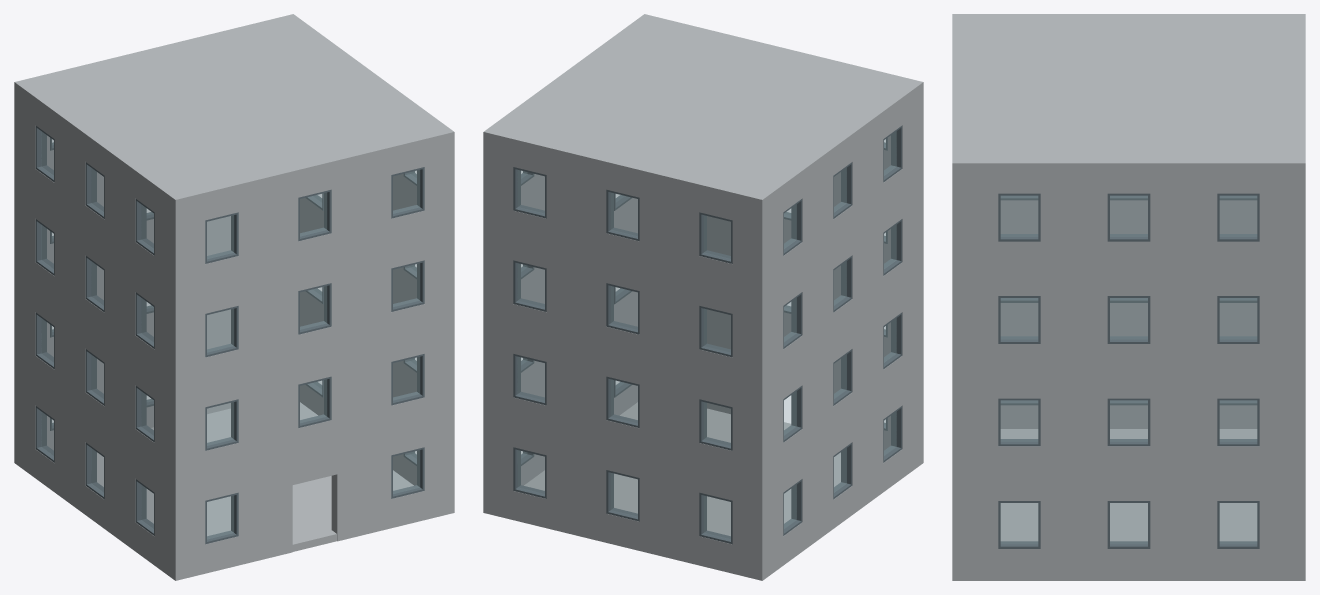
Rendered from block_4_lod1.glb.
3 renders of one model, left to right at view 1: azimuth 30°, elevation 25°; view 2: azimuth 150°, elevation 25°; view 3: azimuth 270°, elevation 25°, orthographic. The views are drawn at different scales.
Parts seen in each view (by area): view 1: Wall_0 baked, Ceiling baked, Wall_3 baked, Wall_1 baked, Floor baked, Wall_2 baked, Glazing.006 baked, Glazing.008 baked, Glazing baked, Glazing.001 baked, Glazing.009 baked, Glazing.010 baked (+5 smaller); view 2: Wall_1 baked, Ceiling baked, Wall_3 baked, Wall_0 baked, Wall_2 baked, Floor baked, Glazing.022 baked, Glazing.011 baked, Glazing.012 baked, Glazing.013 baked, Glazing.020 baked, Glazing.021 baked (+6 smaller); view 3: Wall_2 baked, Ceiling baked, Wall_3 baked, Floor baked, Wall_0 baked, Wall_1 baked, Glazing.027 baked, Glazing.030 baked, Glazing.024 baked, Glazing.033 baked, Glazing.026 baked, Glazing.028 baked (+6 smaller).
Boxes of the visible parts, x1=… form: Wall_0 baked: x1=170, y1=139, x2=454, y2=580; Ceiling baked: x1=14, y1=14, x2=454, y2=207; Wall_3 baked: x1=20, y1=93, x2=169, y2=576; Wall_1 baked: x1=14, y1=89, x2=230, y2=466; Floor baked: x1=97, y1=402, x2=413, y2=551; Wall_2 baked: x1=300, y1=174, x2=416, y2=485; Glazing.006 baked: x1=300, y1=286, x2=326, y2=329; Glazing.008 baked: x1=207, y1=215, x2=233, y2=258; Glazing baked: x1=207, y1=496, x2=233, y2=538; Glazing.001 baked: x1=393, y1=450, x2=419, y2=493; Glazing.009 baked: x1=300, y1=193, x2=326, y2=236; Glazing.010 baked: x1=393, y1=170, x2=419, y2=213; Wall_1 baked: x1=483, y1=139, x2=767, y2=580; Ceiling baked: x1=483, y1=14, x2=923, y2=207; Wall_3 baked: x1=768, y1=93, x2=917, y2=576; Wall_0 baked: x1=707, y1=89, x2=923, y2=466; Wall_2 baked: x1=521, y1=174, x2=637, y2=485; Floor baked: x1=524, y1=402, x2=840, y2=535; Glazing.022 baked: x1=704, y1=215, x2=730, y2=258; Glazing.011 baked: x1=518, y1=450, x2=544, y2=493; Glazing.012 baked: x1=611, y1=473, x2=637, y2=516; Glazing.013 baked: x1=704, y1=496, x2=730, y2=538; Glazing.020 baked: x1=518, y1=170, x2=544, y2=213; Glazing.021 baked: x1=611, y1=193, x2=637, y2=236; Wall_2 baked: x1=964, y1=171, x2=1293, y2=580; Ceiling baked: x1=952, y1=14, x2=1305, y2=171; Wall_3 baked: x1=1000, y1=200, x2=1257, y2=428; Floor baked: x1=1000, y1=429, x2=1257, y2=541; Wall_0 baked: x1=952, y1=171, x2=964, y2=580; Wall_1 baked: x1=1293, y1=171, x2=1305, y2=580; Glazing.027 baked: x1=1110, y1=400, x2=1147, y2=441; Glazing.030 baked: x1=1110, y1=298, x2=1147, y2=339; Glazing.024 baked: x1=1110, y1=503, x2=1147, y2=543; Glazing.033 baked: x1=1110, y1=196, x2=1147, y2=236; Glazing.026 baked: x1=1001, y1=400, x2=1037, y2=441; Glazing.028 baked: x1=1220, y1=400, x2=1256, y2=441.
Bounding box in the file's own units: 10 × 13.05 × 10.
